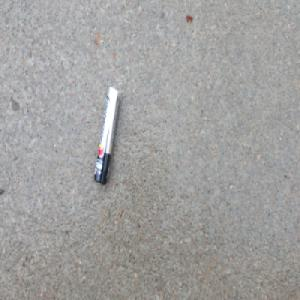Battery: (92, 84, 121, 187)
